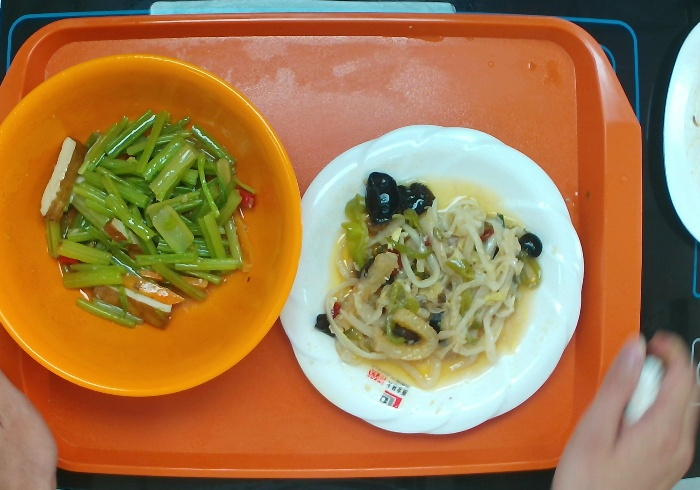ZNLD-Hua_Bian_Wan: (271, 120, 589, 441)
ZNLD-Ju_Se_Tang_Wan: (1, 50, 316, 407)
